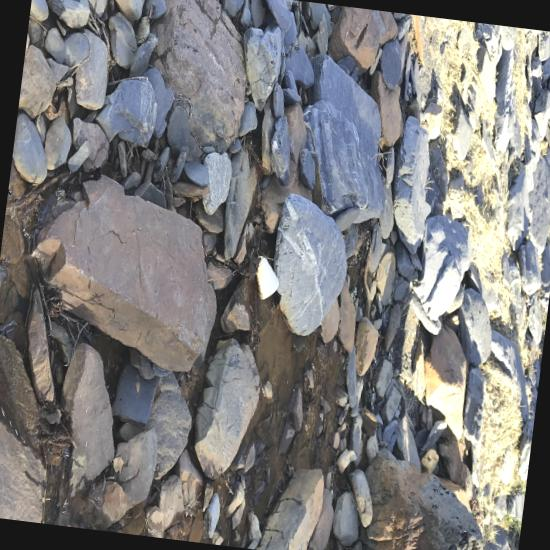Cigarette: (436, 152, 442, 159), (526, 276, 533, 280), (463, 99, 469, 102), (417, 53, 420, 59), (472, 195, 476, 199), (475, 49, 477, 53), (389, 111, 393, 113)
Drink can: (400, 219, 428, 240)
